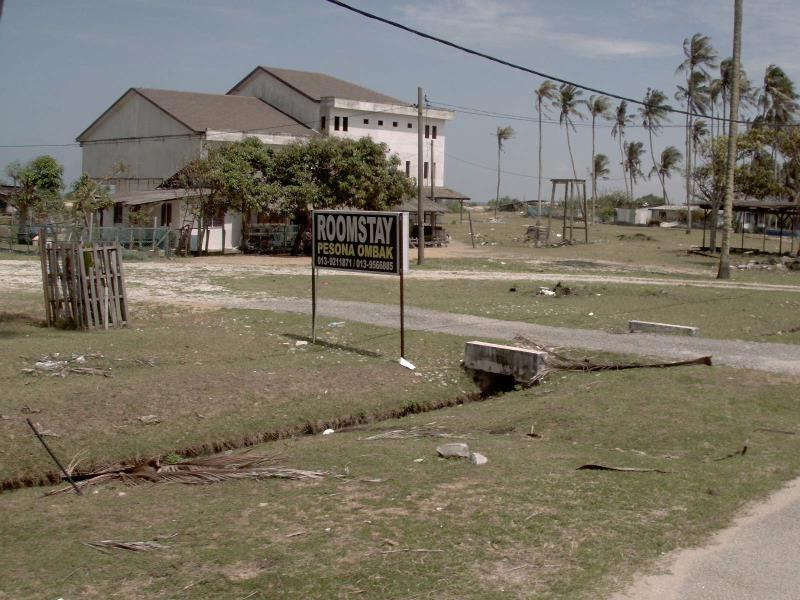ads_sign: (302, 200, 416, 279)
